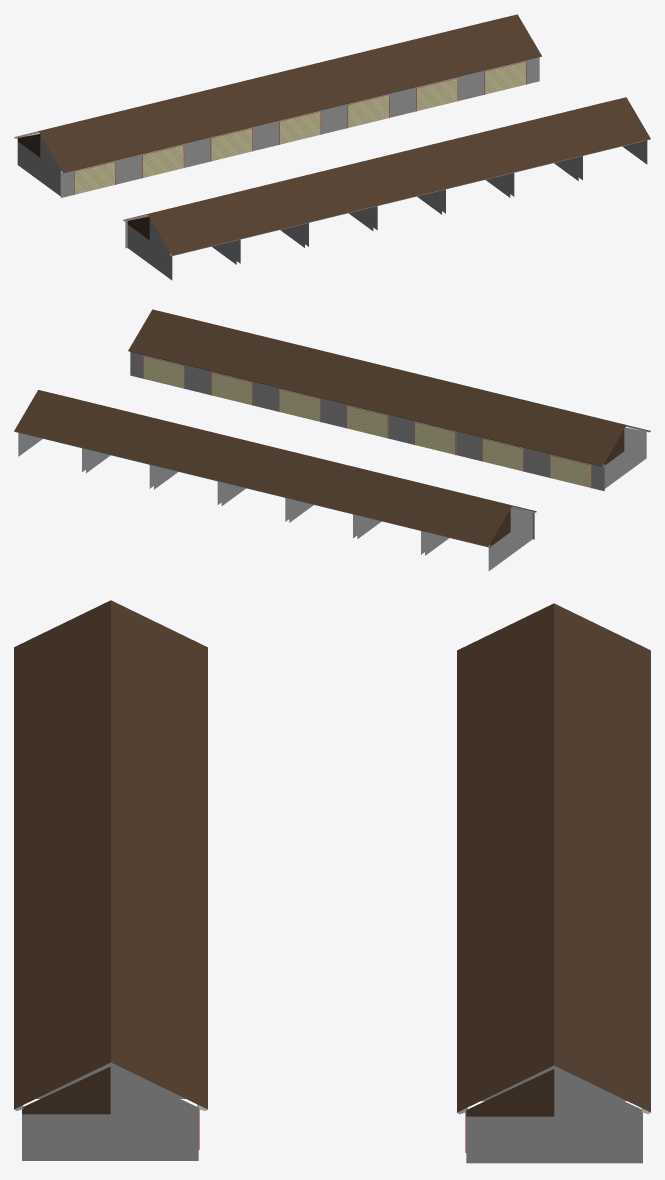
Rendered from Alley.fbx.
The picture shows the model from 3 angles, top to bottom: view 1: azimuth 30°, elevation 25°; view 2: azimuth 150°, elevation 25°; view 3: azimuth 270°, elevation 25°; orthographic projection. The views are drawn at different scales.
Parts seen in each view (by area): view 1: Garages.L, Garages.R, Door.L.000, Door.L.002, Door.L.006, Door.L.004, Door.L.003, Door.L.005, Door.L.001; view 2: Garages.R, Garages.L, Door.R.004, Door.R.006, Door.R.003, Door.R.002, Door.R.000, Door.R.005, Door.R.001; view 3: Garages.L, Garages.R.
Boxes of the visible parts, bbox=[...] form: Garages.L: bbox=[14, 14, 541, 197]; Garages.R: bbox=[123, 97, 650, 280]; Door.L.000: bbox=[74, 162, 115, 194]; Door.L.002: bbox=[211, 128, 252, 160]; Door.L.006: bbox=[485, 62, 525, 94]; Door.L.004: bbox=[348, 95, 389, 127]; Door.L.003: bbox=[280, 112, 320, 144]; Door.L.005: bbox=[417, 78, 457, 110]; Door.L.001: bbox=[143, 145, 183, 177]; Garages.R: bbox=[128, 309, 650, 491]; Garages.L: bbox=[14, 390, 536, 570]; Door.R.004: bbox=[279, 389, 319, 421]; Door.R.006: bbox=[144, 356, 184, 388]; Door.R.003: bbox=[347, 406, 387, 438]; Door.R.002: bbox=[415, 422, 455, 454]; Door.R.000: bbox=[550, 455, 590, 487]; Door.R.005: bbox=[211, 373, 251, 404]; Door.R.001: bbox=[483, 439, 522, 471]; Garages.L: bbox=[457, 603, 650, 1163]; Garages.R: bbox=[14, 600, 207, 1160].
Bounding box in the file's own units: 9871 × 992 × 5710.
